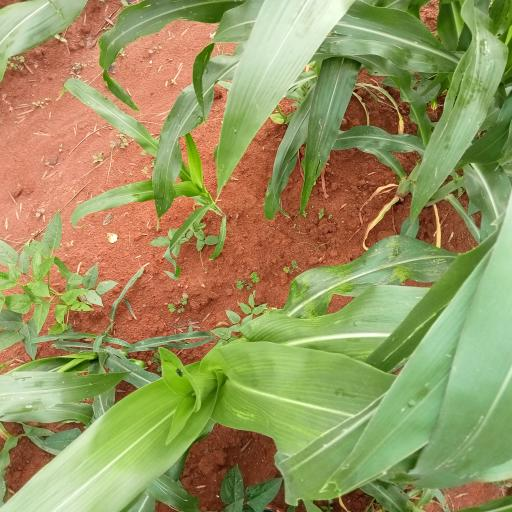Corn_Brown_Spots: (214, 340, 414, 489), (29, 358, 240, 489)
